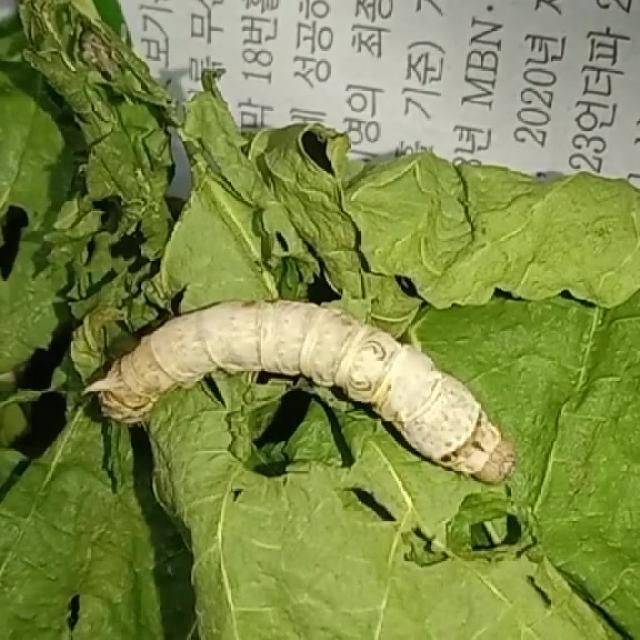Grasserie: (76, 278, 518, 484)
